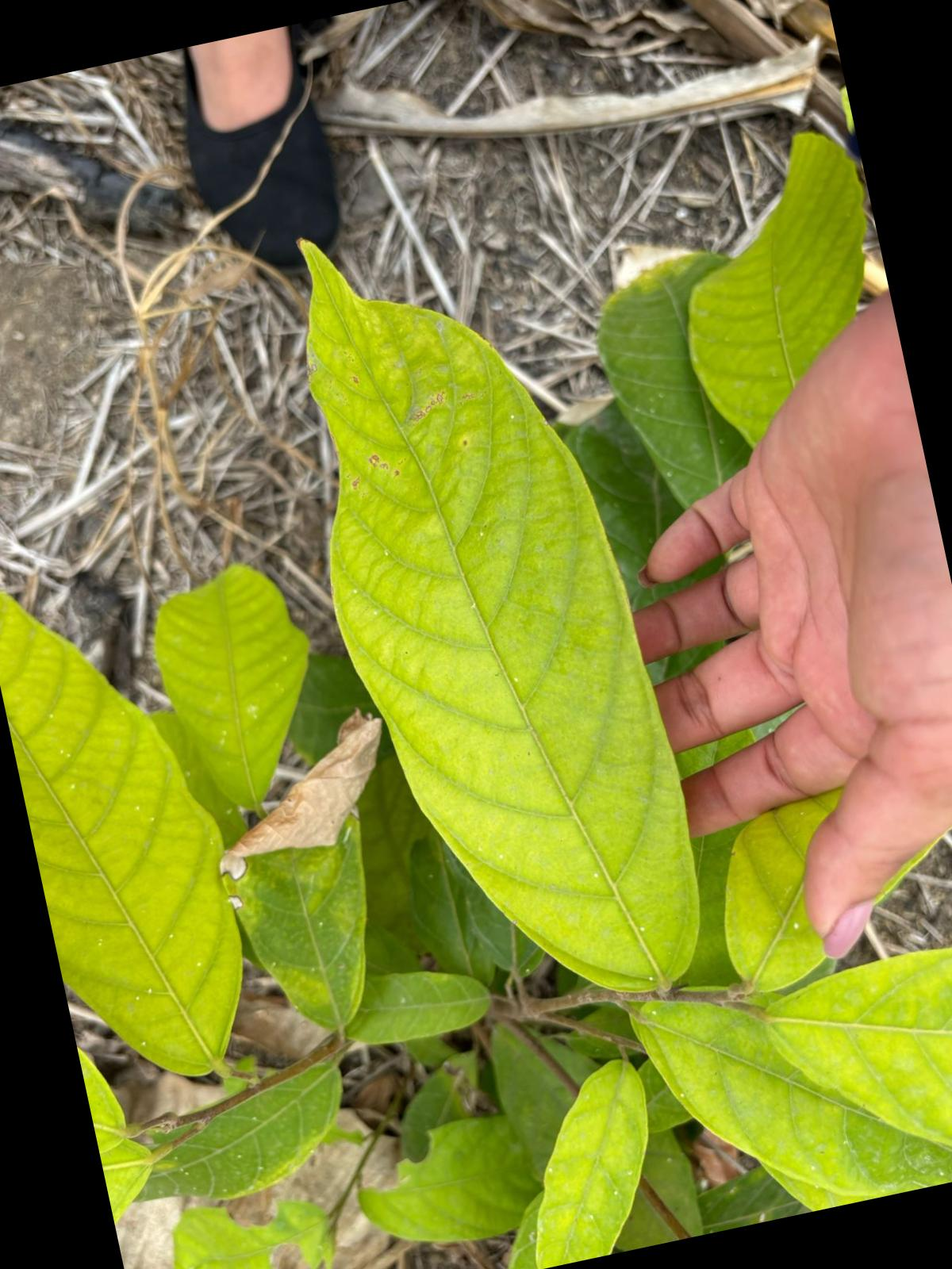Nitrogeno: (303, 245, 698, 991), (0, 592, 242, 1075), (766, 947, 952, 1143)
